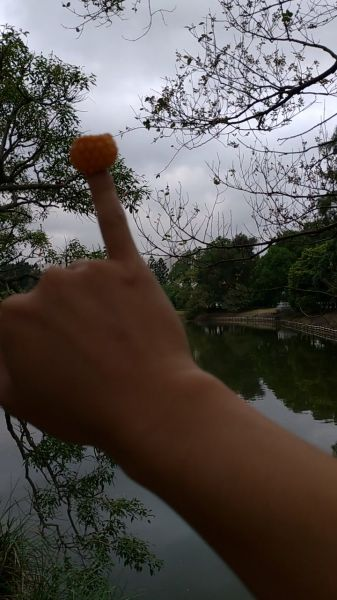eggs: (69, 133, 119, 174)
